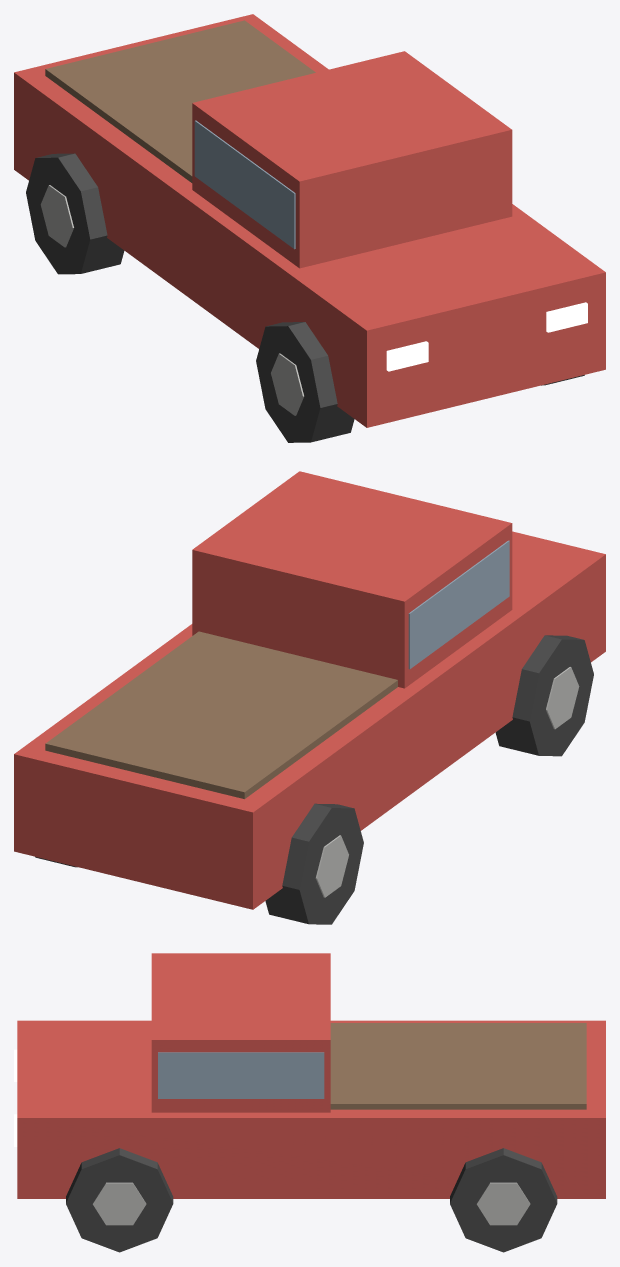
The model's file is pickup.glb.
3 renders of one model, top to bottom at view 1: azimuth 30°, elevation 25°; view 2: azimuth 150°, elevation 25°; view 3: azimuth 270°, elevation 25°, orthographic. The views are drawn at different scales.
Parts seen in each view (by area): view 1: pickup; view 2: pickup; view 3: pickup.
Boxes of the visible parts, x1,y1,x2,y2 form: pickup: [14, 14, 605, 442]; pickup: [14, 471, 605, 924]; pickup: [14, 953, 605, 1252].
Size of the model in its own units: 2.08 by 1.73 by 4.63.
